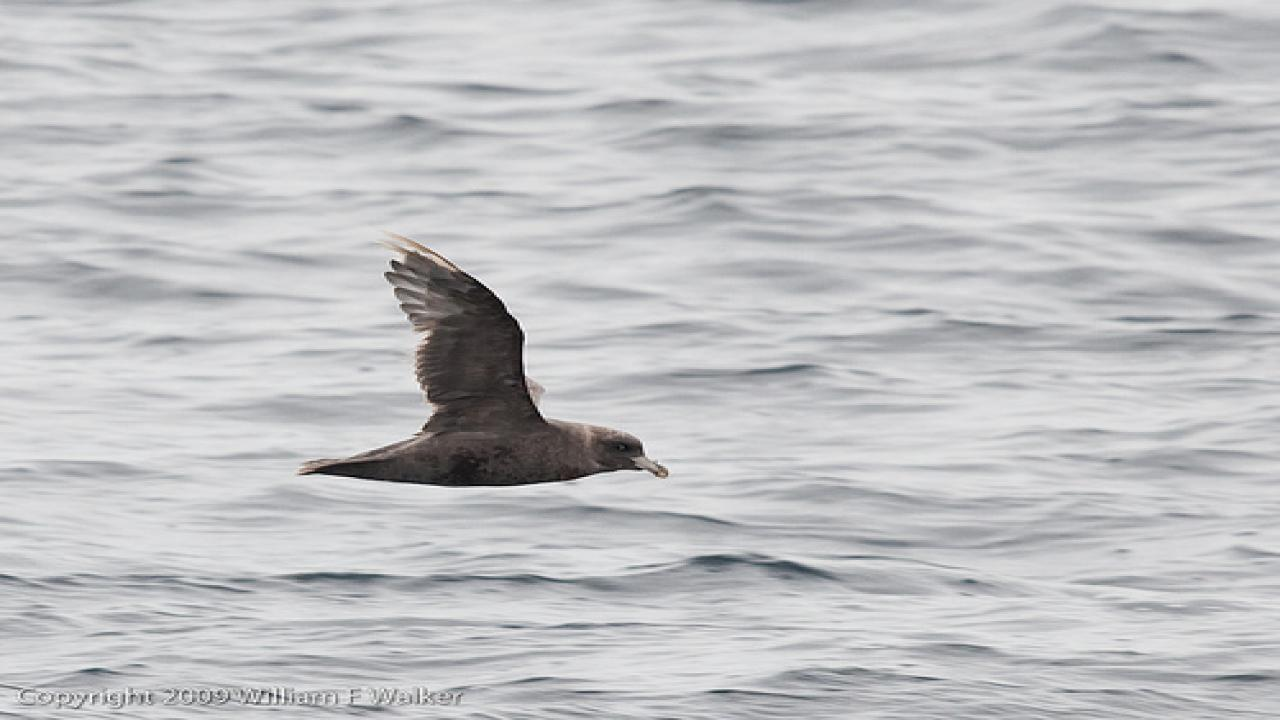Bird: (288, 223, 688, 499)
